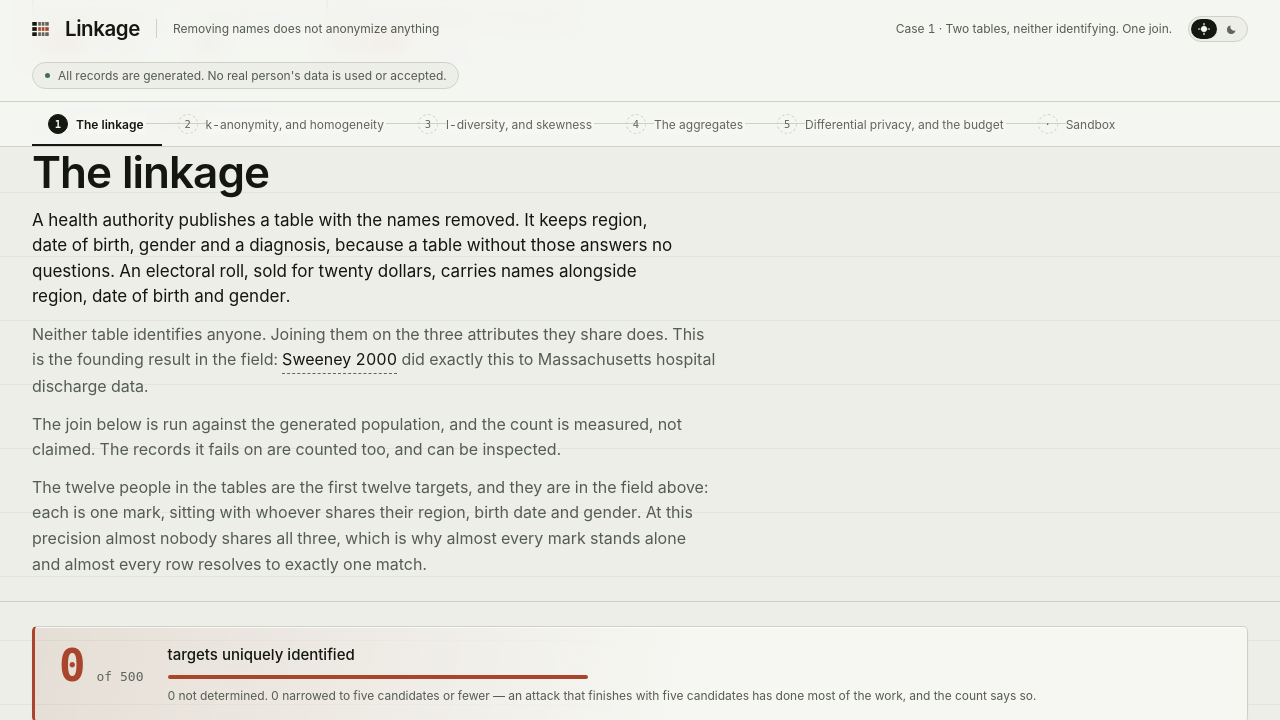
Scenario: the application boots › opens a citation popover
(page scrolled)
Click the button with class "cite": (340, 361) 282,347 -> 397,374
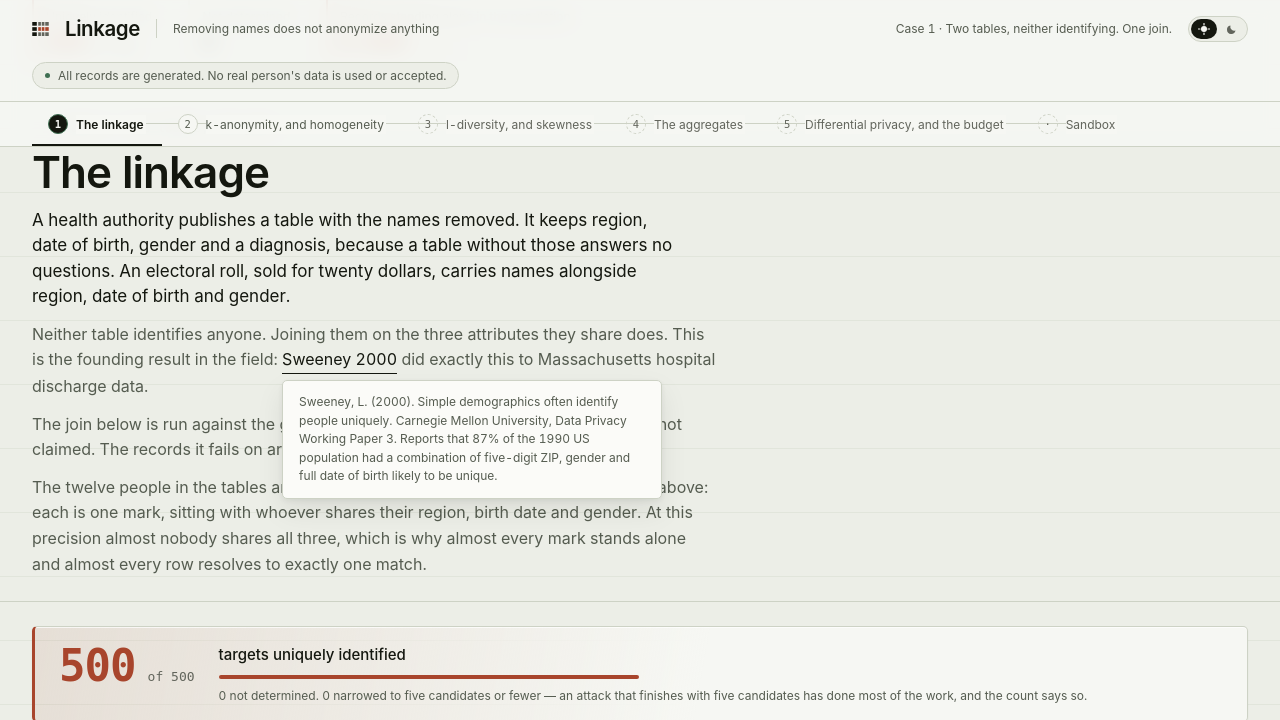
Expected: the text with class "cite__popover" shows "Data Privacy Working Paper", 299,394 -> 630,483
